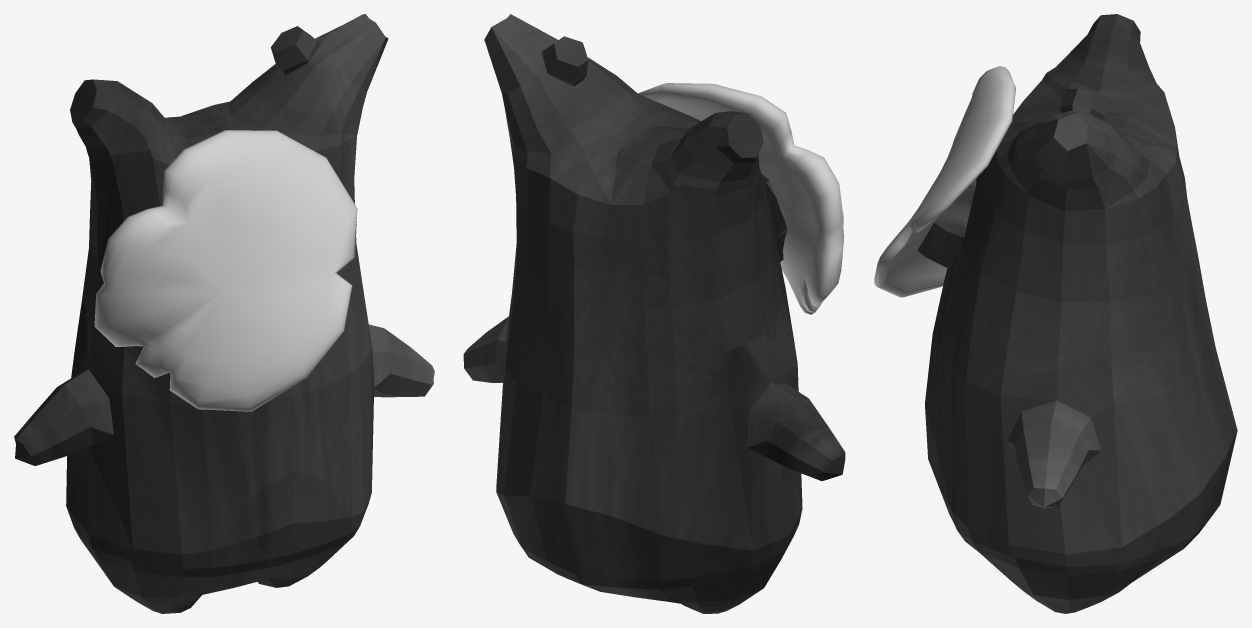
Rendered from frame_0093.obj.
The picture shows the model from 3 angles, left to right: view 1: azimuth 30°, elevation 25°; view 2: azimuth 150°, elevation 25°; view 3: azimuth 270°, elevation 25°; orthographic projection.
Visible parts, largest first — view 1: korok, leaf; view 2: korok, leaf, nose; view 3: korok, leaf, nose.
Part boxes in pixels (bbox=[...]): korok: bbox=[14, 14, 434, 613]; leaf: bbox=[94, 130, 357, 411]; korok: bbox=[463, 14, 845, 613]; leaf: bbox=[638, 83, 843, 314]; nose: bbox=[761, 174, 787, 261]; korok: bbox=[925, 14, 1237, 613]; leaf: bbox=[874, 66, 1015, 297]; nose: bbox=[917, 178, 976, 268].
Size of the model in its own units: 1.68 by 2.22 by 1.35.
